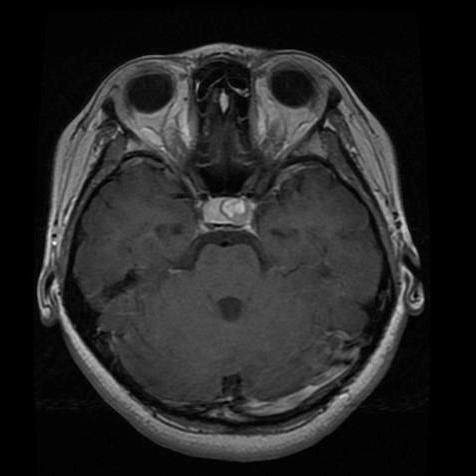Tumour-Pituitary: (194, 195, 260, 237)
